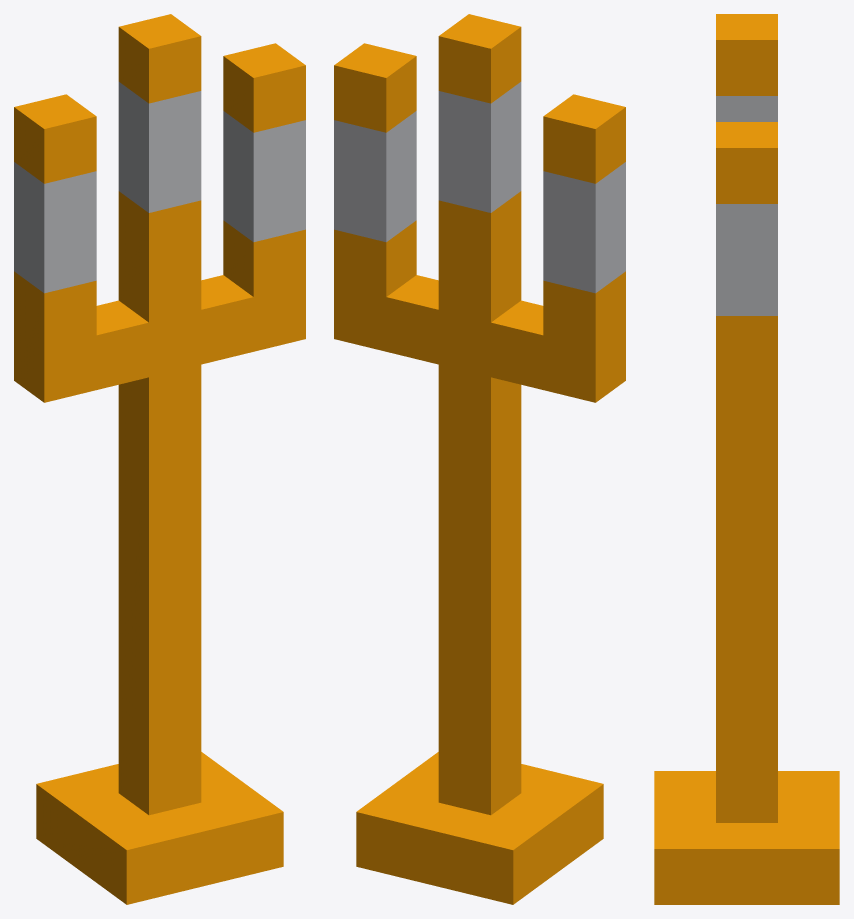
The model's file is large_candelabrum_c.obj.
3 renders of one model, left to right at view 1: azimuth 30°, elevation 25°; view 2: azimuth 150°, elevation 25°; view 3: azimuth 270°, elevation 25°, orthographic. The views are drawn at different scales.
Size of the model in its own units: 0.5 by 1.5 by 0.3.
Materials: 1 (1 with a texture image).
